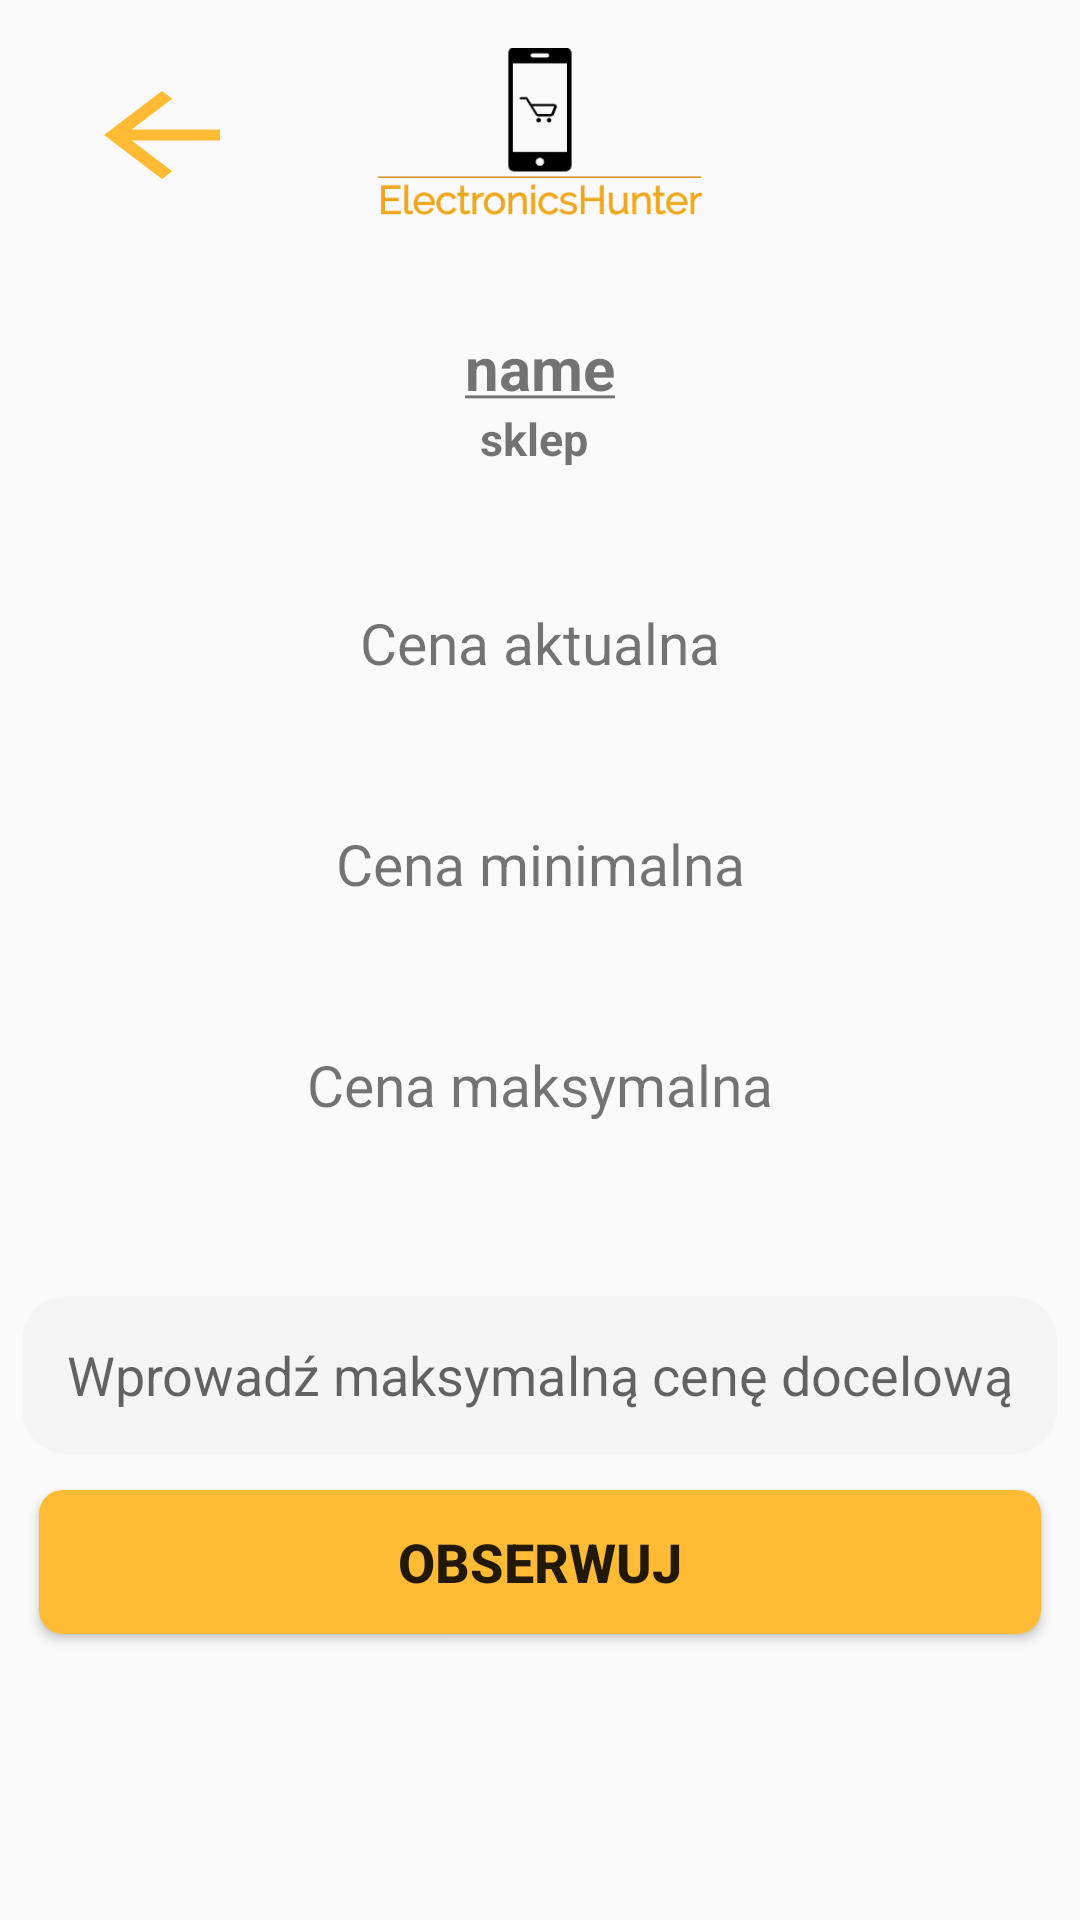

Icons on this 1080px×1920px Android screen, each with the point to tap as point (x, y):
arrow back: point (162, 135)
